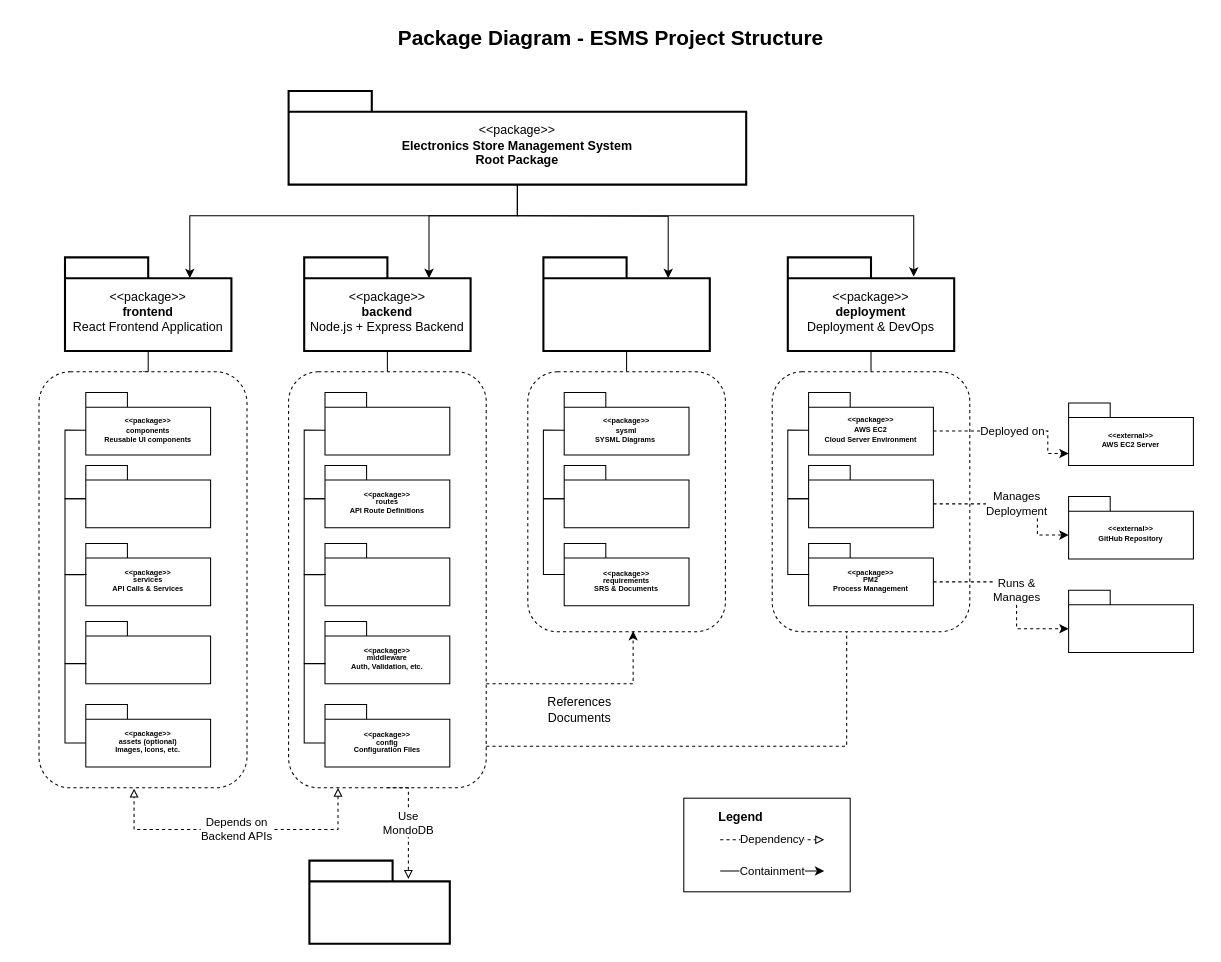
Some shapes in this 1221 by 962 pixel diagram are drawn without their labels. Here are the shapes that lost their labels. From the top down, the centre of each, then its label:
the point at 626,304: <<package>> docs Project Documentation
the point at 387,423: <<package>> models Database models (Schemas)
the point at 148,496: <<package>> pages Application Pages
the point at 626,496: <<package>> screenshots Application Screenshots
the point at 870,496: <<package>> GitHub Actions CI /CD Workflows
the point at 387,574: <<package>> controllers Request Handlers
the point at 1130,621: <<external>> components Node.js (PM2)
the point at 148,652: <<package>> styles CSS / Styling Files
the point at 379,901: <<package>> database MondoDB database
